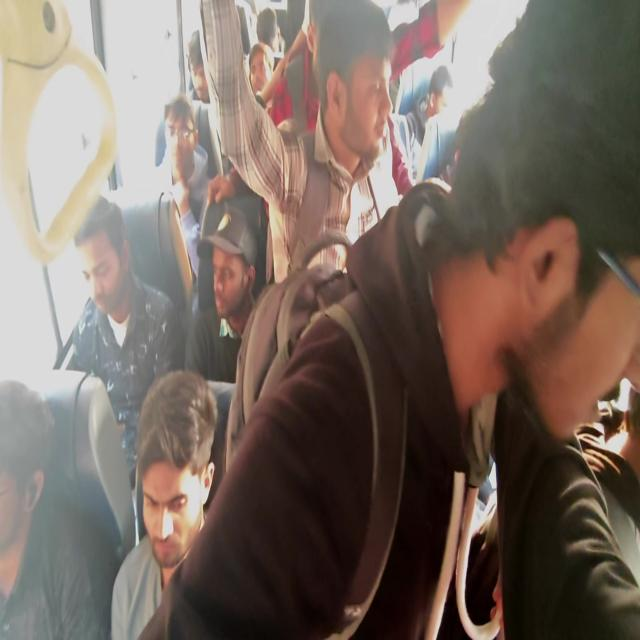person: (138, 0, 639, 638), (199, 0, 399, 283), (58, 194, 185, 541), (110, 368, 218, 638), (0, 378, 99, 638), (184, 202, 258, 383), (154, 93, 214, 283), (393, 64, 452, 182), (186, 29, 210, 102)
